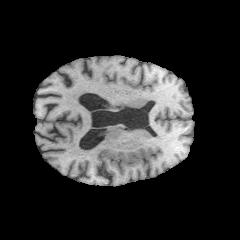glioma: (97, 147, 157, 175)
